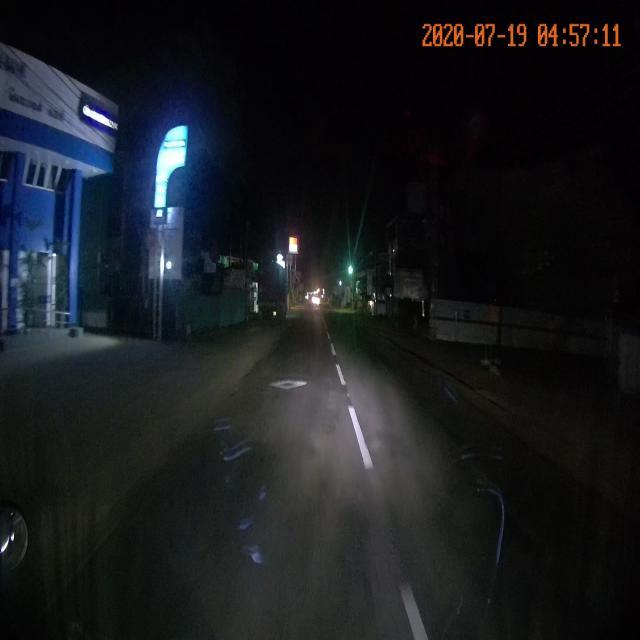diamond: (222, 366, 354, 410)
